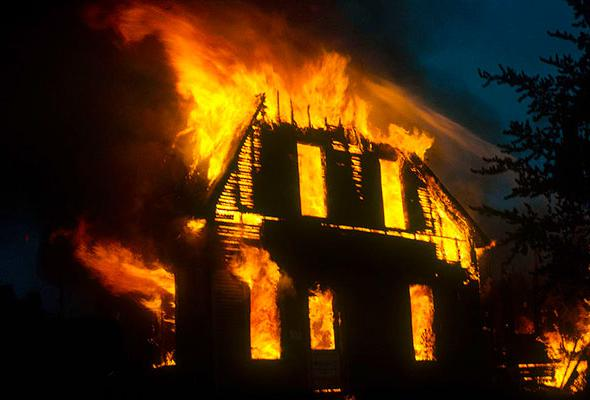fire: (119, 6, 446, 179), (63, 209, 182, 365), (229, 237, 290, 373), (530, 296, 590, 394), (419, 192, 484, 270), (406, 281, 442, 366), (307, 287, 339, 348), (296, 182, 334, 219), (379, 183, 408, 231)
